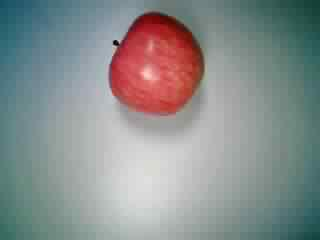apple: (105, 12, 209, 116)
